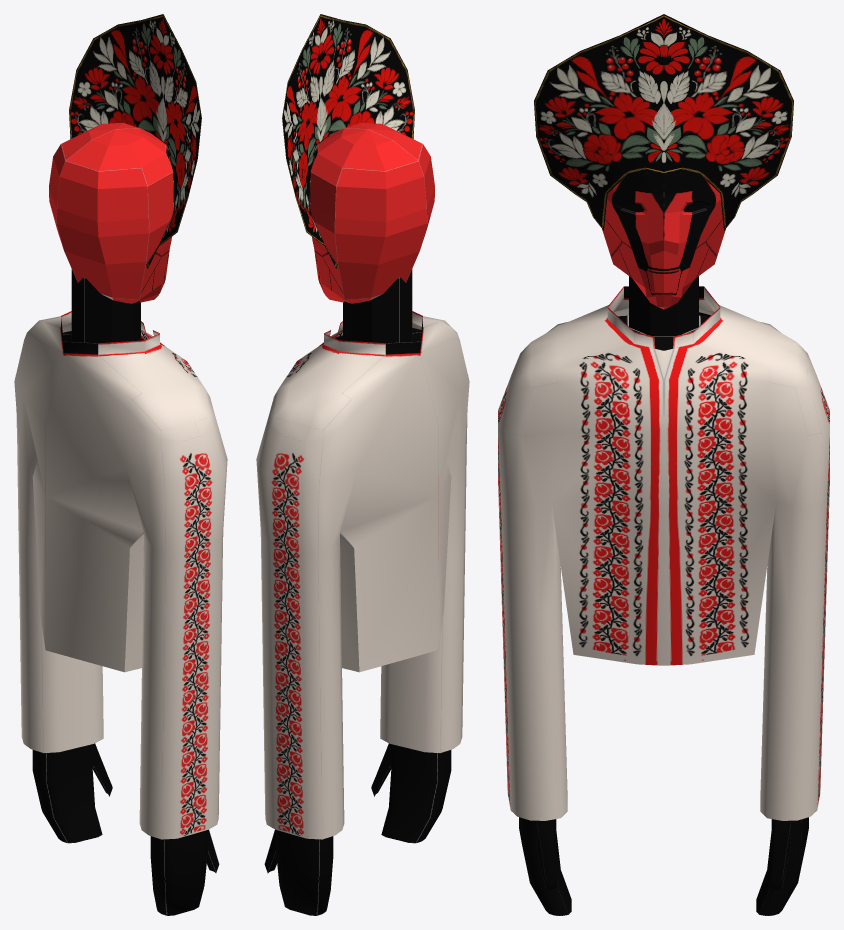
Rendered from Robot Reception.fbx.
3 renders of one model, left to right at view 1: azimuth 30°, elevation 25°; view 2: azimuth 150°, elevation 25°; view 3: azimuth 270°, elevation 25°, orthographic. The views are drawn at different scales.
Visible parts, largest first — view 1: Cube.003, Head.001, Plane, Cube; view 2: Cube.003, Head.001, Plane, Cube; view 3: Cube.003, Plane, Head.001, Cube.
Part boxes in pixels (x1,y1,x2,y2): Cube.003: (14,311,227,915); Head.001: (49,123,173,303); Plane: (69,14,201,268); Cube: (63,269,144,343); Cube.003: (256,311,469,915); Head.001: (310,123,434,303); Plane: (282,14,414,268); Cube: (335,269,421,343); Cube.003: (498,286,829,915); Plane: (534,14,793,230); Head.001: (602,169,725,309); Cube: (618,276,710,350).
Bounding box in the file's own units: 0.2458 × 1.47 × 0.4862.
